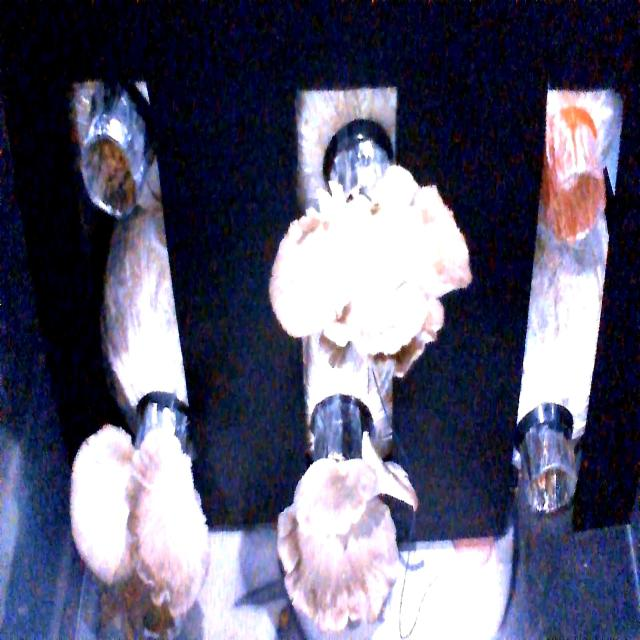big: (269, 204, 463, 352), (68, 443, 210, 593), (276, 469, 405, 617)
nfound: (73, 126, 147, 220), (542, 173, 606, 243), (524, 454, 577, 516)
